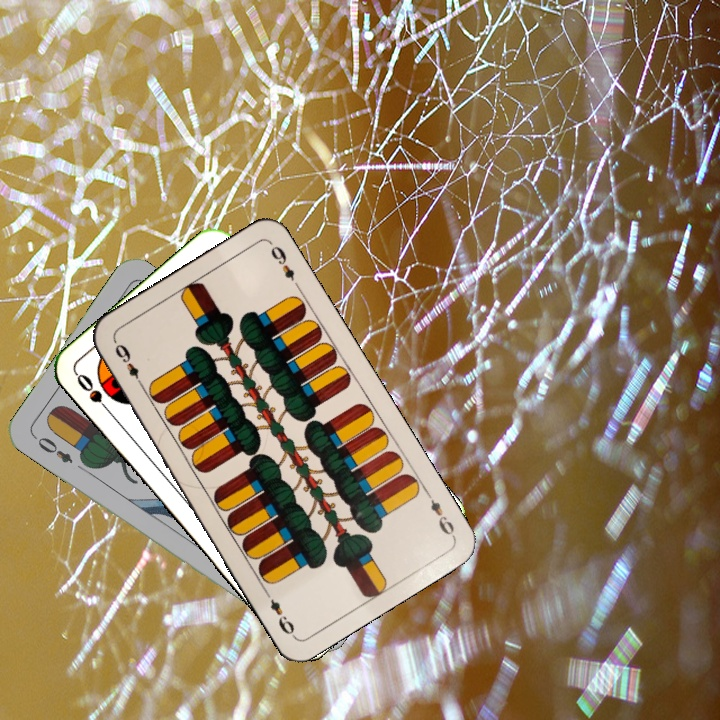E9: (110, 337, 147, 391), (421, 486, 457, 540)
EO: (29, 431, 76, 466)
SO: (72, 370, 116, 419)
